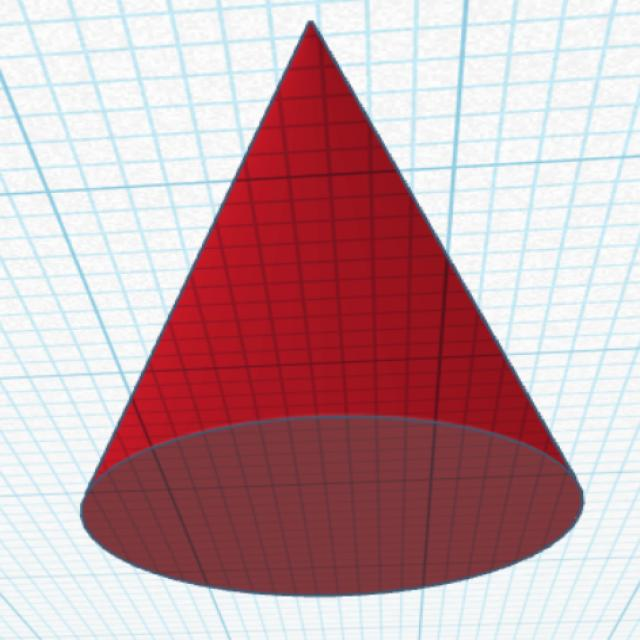cone: (75, 15, 591, 604)
